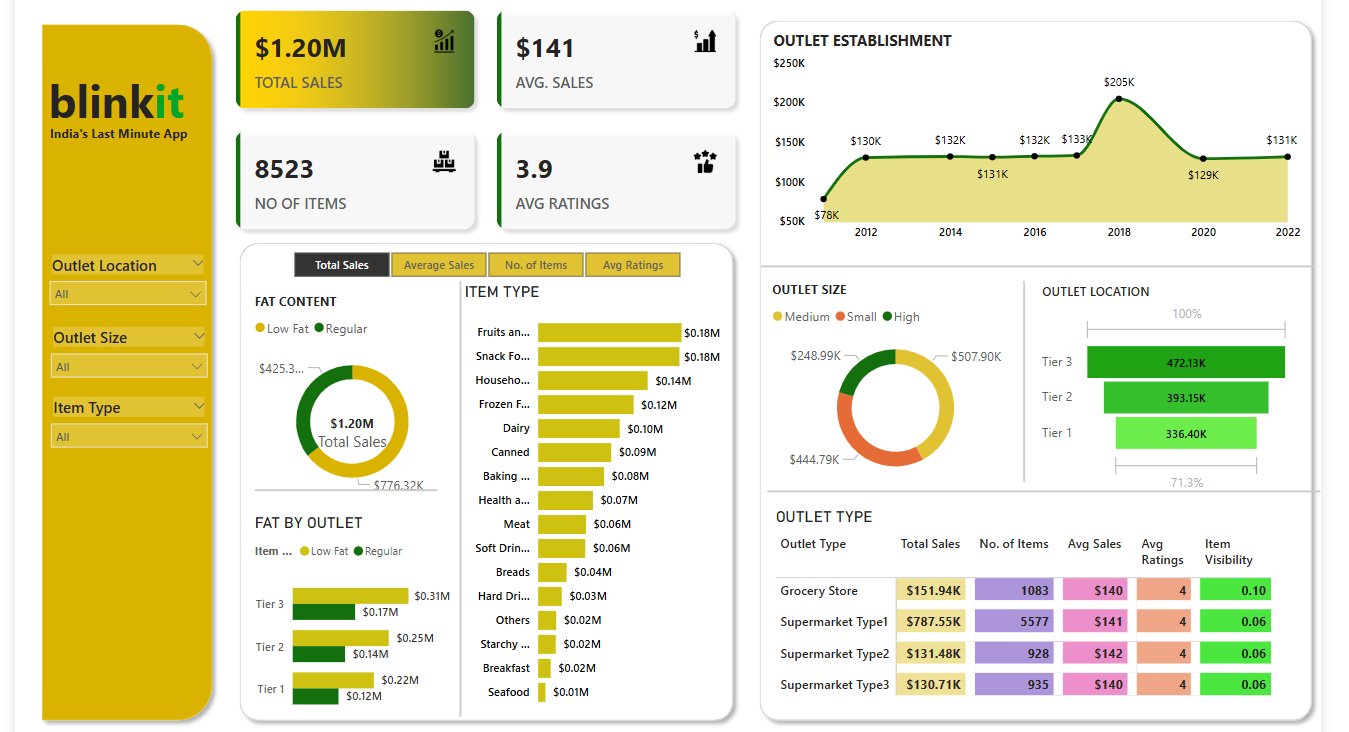

The dashboard page shown, as its layout file describes it:
{"tool":"powerbi","page":{"name":"Page 1","canvas":[1400,800],"ordinal":0},"visuals":[{"type":"shape","box":[20,27.1,200,764.3],"z":0},{"type":"textbox","box":[30.8,79.1,179.6,75.1],"z":1000},{"type":"textbox","box":[30.8,138.1,160.9,49.6],"z":2000},{"type":"cardVisual","fields":{"Data":["BlinkIT Grocery Data.Total Sales","BlinkIT Grocery Data.Average Sales","BlinkIT Grocery Data.No. of Items","BlinkIT Grocery Data.Avg Ratings"]},"box":[220,4.3,570,268.6],"z":3000},{"type":"shape","box":[231.4,261.4,547.1,530],"z":4000},{"type":"donutChart","title":"FAT CONTENT","fields":{"Y":["BlinkIT Grocery Data.Total Sales"],"Category":["BlinkIT Grocery Data.Item Fat Content"]},"box":[251.4,322.9,220,230],"z":5000},{"type":"slicer","fields":{"Values":["Metrics.Metrics"]},"box":[272.9,272.9,464.3,40],"z":6000},{"type":"cardVisual","fields":{"Data":["BlinkIT Grocery Data.Total Sales"]},"box":[301.4,437.1,120,64.3],"z":7000},{"type":"clusteredBarChart","title":"FAT BY OUTLET","fields":{"Y":["BlinkIT Grocery Data.Total Sales"],"Category":["BlinkIT Grocery Data.Outlet Location Type"],"Series":["BlinkIT Grocery Data.Item Fat Content"]},"box":[251.4,560,220,230],"z":7001},{"type":"shape","box":[257.1,517.1,195.7,35.7],"z":7002},{"type":"shape","box":[448.6,311.4,57.1,467.1],"z":7003},{"type":"barChart","title":"ITEM TYPE","fields":{"Category":["BlinkIT Grocery Data.Item Type"],"Y":["BlinkIT Grocery Data.Total Sales"]},"box":[477.1,312.9,284.3,465.7],"z":7004},{"type":"shape","box":[790,22.9,610,768.6],"z":7005},{"type":"lineChart","title":"OUTLET ESTABLISHMENT","fields":{"Y":["BlinkIT Grocery Data.Total Sales"],"Category":["BlinkIT Grocery Data.Outlet Establishment Year"]},"box":[808.3,41.1,575.7,235.7],"z":7006},{"type":"shape","box":[800,277.1,592.9,35.7],"z":7007},{"type":"donutChart","title":"OUTLET SIZE","fields":{"Y":["BlinkIT Grocery Data.Total Sales"],"Category":["BlinkIT Grocery Data.Outlet Size"]},"box":[807.1,311.4,275,225],"z":7008},{"type":"shape","box":[1054.3,311.4,57.1,215.7],"z":7009},{"type":"funnel","title":"OUTLET LOCATION","fields":{"Y":["Sum(BlinkIT Grocery Data.Sales)"],"Category":["BlinkIT Grocery Data.Outlet Location Type"]},"box":[1097.1,312.9,275.7,230],"z":7010},{"type":"shape","box":[807.1,518.6,592.9,35.7],"z":7011},{"type":"pivotTable","title":"OUTLET TYPE","fields":{"Values":["BlinkIT Grocery Data.Total Sales","BlinkIT Grocery Data.No. of Items","BlinkIT Grocery Data.Avg Sales","BlinkIT Grocery Data.Avg Ratings","Avg(BlinkIT Grocery Data.Item Visibility)"],"Rows":["BlinkIT Grocery Data.Outlet Type"]},"box":[811.4,554.3,561.4,224.3],"z":7012},{"type":"slicer","fields":{"Values":["BlinkIT Grocery Data.Outlet Location Type"]},"box":[27.1,277.7,188.6,64.3],"z":7013},{"type":"slicer","fields":{"Values":["BlinkIT Grocery Data.Outlet Size"]},"box":[28,355.1,188.6,64.3],"z":7014},{"type":"slicer","fields":{"Values":["BlinkIT Grocery Data.Item Type"]},"box":[28.3,429.7,188.6,64.3],"z":7015}]}

Visuals, with their boxes on the page's 1400x800 design canvas (x1, y1, x2, y2). These are canvas units, not pixel positions in the 1349x732 screenshot, which may show the page scaled, cropped or inside an application window:
shape: Rect(20, 27, 220, 791)
textbox: Rect(31, 79, 210, 154)
textbox: Rect(31, 138, 192, 188)
cardVisual - BlinkIT Grocery Data.Total Sales x BlinkIT Grocery Data.Average Sales: Rect(220, 4, 790, 273)
shape: Rect(231, 261, 778, 791)
"FAT CONTENT" donutChart: Rect(251, 323, 471, 553)
slicer - Metrics.Metrics: Rect(273, 273, 737, 313)
cardVisual - BlinkIT Grocery Data.Total Sales: Rect(301, 437, 421, 501)
"FAT BY OUTLET" clusteredBarChart: Rect(251, 560, 471, 790)
shape: Rect(257, 517, 453, 553)
shape: Rect(449, 311, 506, 778)
"ITEM TYPE" barChart: Rect(477, 313, 761, 779)
shape: Rect(790, 23, 1400, 792)
"OUTLET ESTABLISHMENT" lineChart: Rect(808, 41, 1384, 277)
shape: Rect(800, 277, 1393, 313)
"OUTLET SIZE" donutChart: Rect(807, 311, 1082, 536)
shape: Rect(1054, 311, 1111, 527)
"OUTLET LOCATION" funnel: Rect(1097, 313, 1373, 543)
shape: Rect(807, 519, 1400, 554)
"OUTLET TYPE" pivotTable: Rect(811, 554, 1373, 779)
slicer - BlinkIT Grocery Data.Outlet Location Type: Rect(27, 278, 216, 342)
slicer - BlinkIT Grocery Data.Outlet Size: Rect(28, 355, 217, 419)
slicer - BlinkIT Grocery Data.Item Type: Rect(28, 430, 217, 494)
